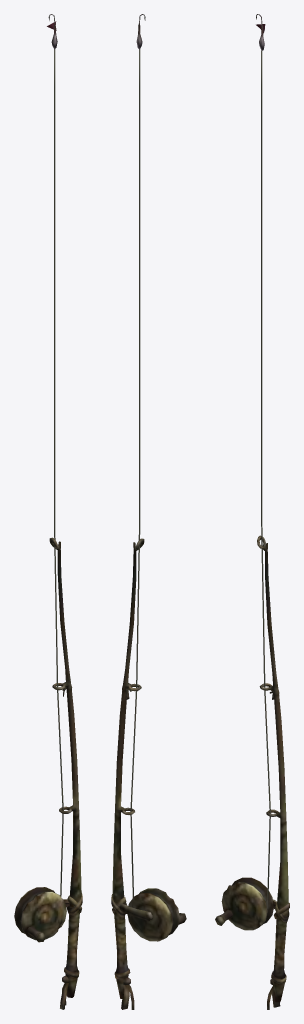
Rendered from weapon-pine-fishing-rod.glb.
The picture shows the model from 3 angles, left to right: view 1: azimuth 30°, elevation 25°; view 2: azimuth 150°, elevation 25°; view 3: azimuth 330°, elevation 25°; orthographic projection.
Parts seen in each view (by area): view 1: fishinRodA_MDL_q; view 2: fishinRodA_MDL_q; view 3: fishinRodA_MDL_q.
Part boxes in pixels (left/top/right/bottom): fishinRodA_MDL_q: left=14, top=14, right=82, bottom=1009; fishinRodA_MDL_q: left=111, top=14, right=186, bottom=1009; fishinRodA_MDL_q: left=215, top=14, right=289, bottom=1009.
Bounding box in the file's own units: 0.3512 × 5.2 × 0.201.
Materials: 1 (1 with a texture image).
